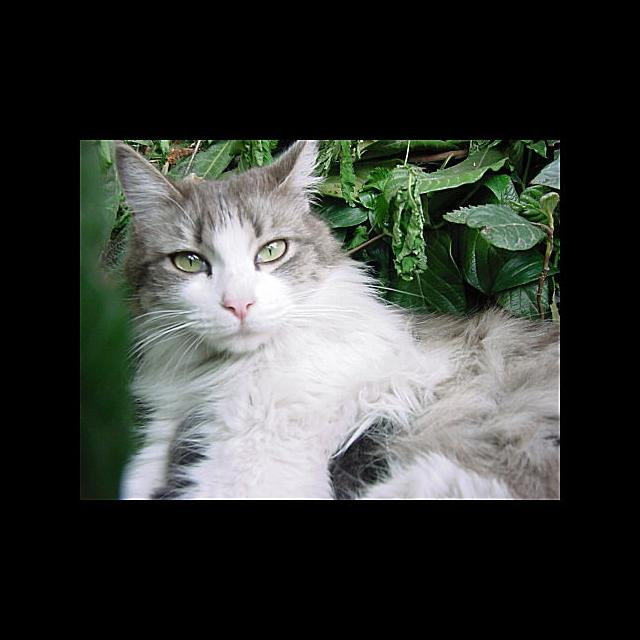animals: (120, 130, 310, 316)
